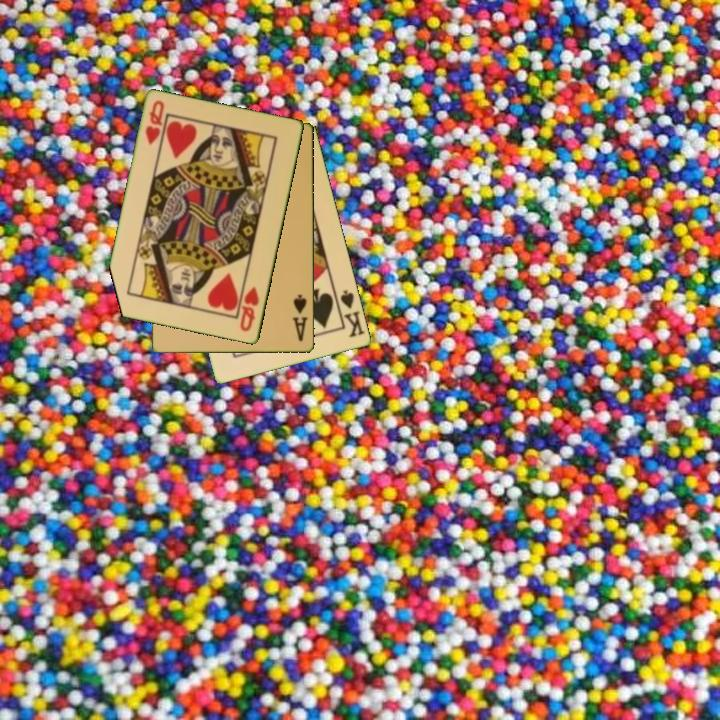As: (289, 291, 311, 344)
Ks: (337, 286, 368, 340)
Qh: (237, 284, 262, 335), (142, 97, 167, 148)
